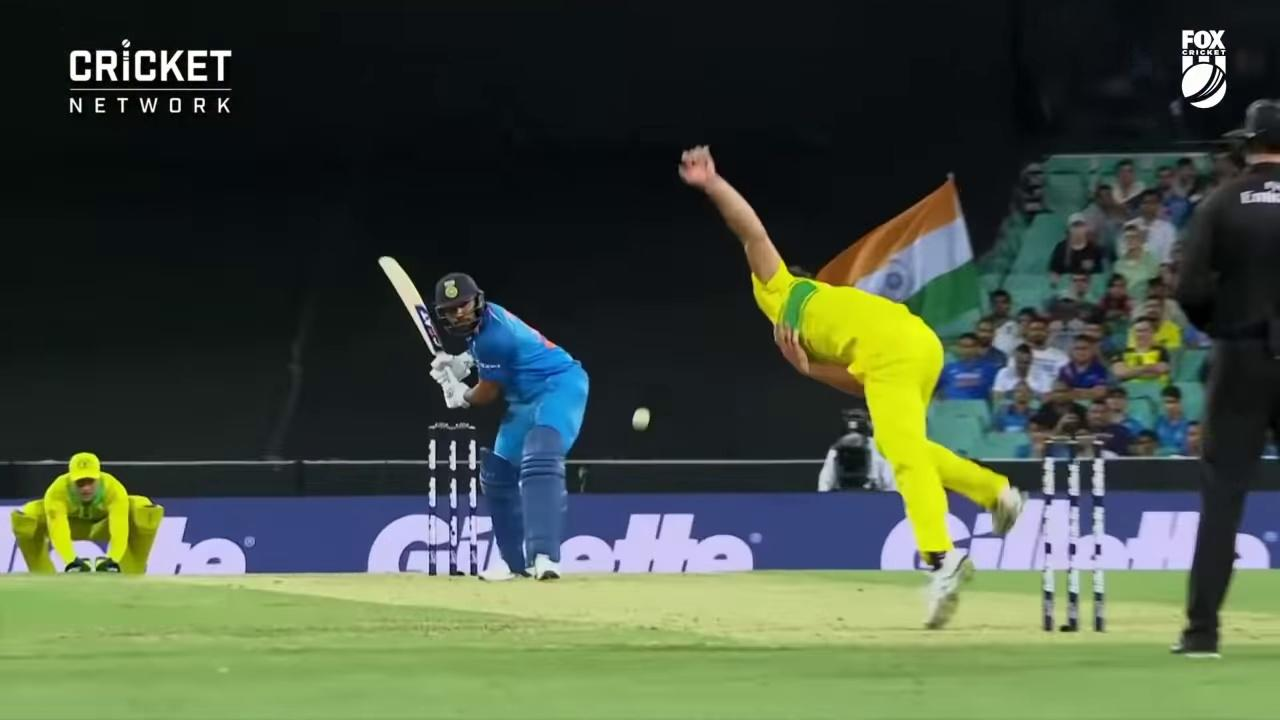batsman: (394, 273, 594, 573)
